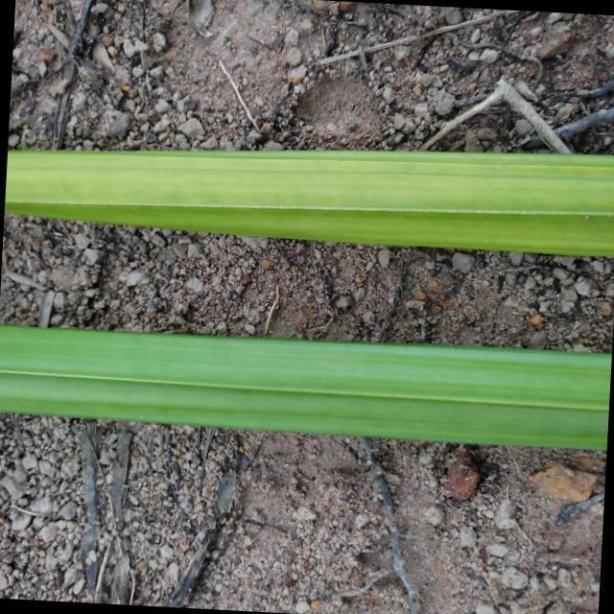nitrogen: (1, 321, 614, 454), (3, 145, 614, 257)
